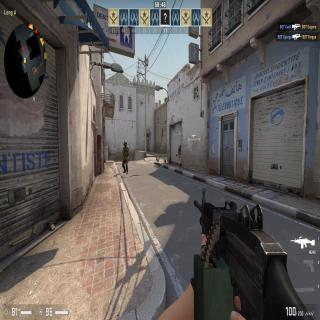CT-Body: (121, 140, 130, 176)
CT-Head: (123, 140, 127, 146)
